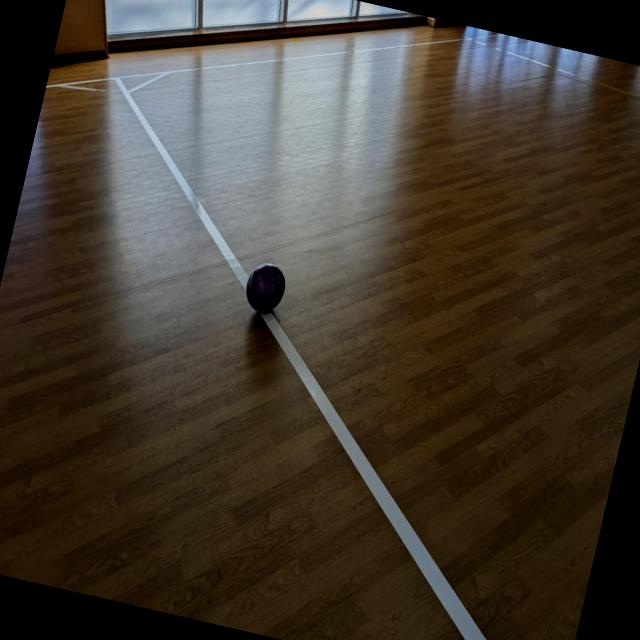purple_ball: (242, 258, 288, 318)
